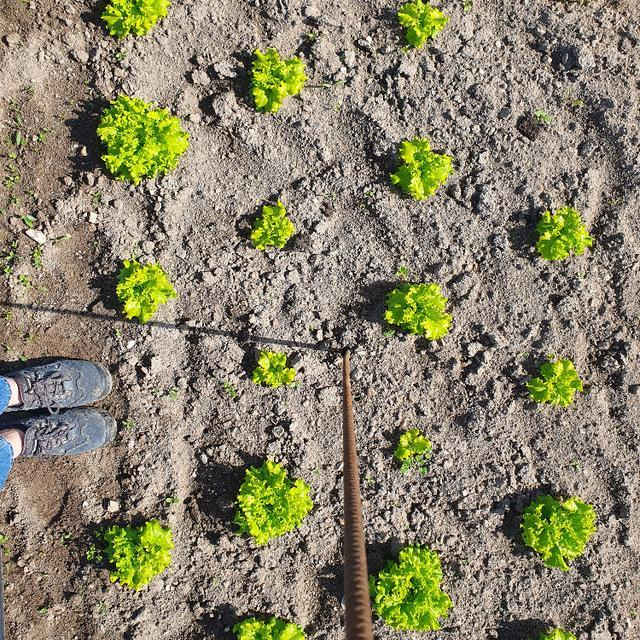Lettuce: (83, 90, 190, 185), (228, 458, 314, 550), (520, 486, 603, 576), (372, 547, 456, 633), (97, 513, 175, 595), (100, 517, 172, 593), (384, 135, 458, 207), (380, 277, 453, 343), (113, 256, 180, 326), (528, 203, 595, 267), (245, 47, 308, 113), (242, 187, 303, 255), (516, 353, 586, 410), (95, 0, 175, 41), (393, 0, 451, 53), (233, 611, 311, 640), (392, 426, 442, 466), (252, 352, 298, 395)
